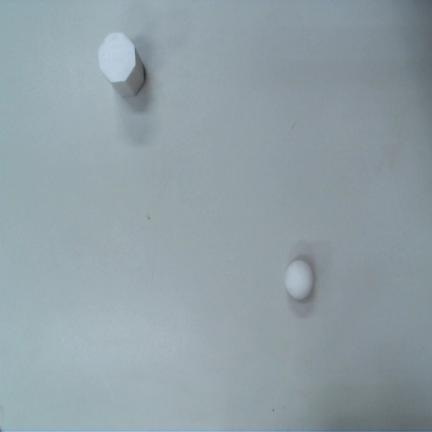Esfera: (286, 259, 313, 300)
Prisma_hexagonal: (98, 32, 145, 96)
